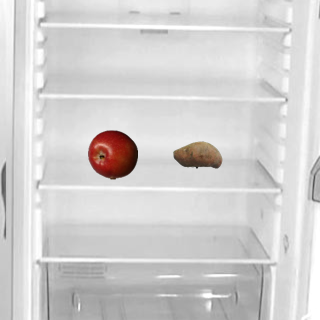Apple Braeburn: (87, 129, 137, 179)
Potato Sweet: (172, 129, 222, 179)
